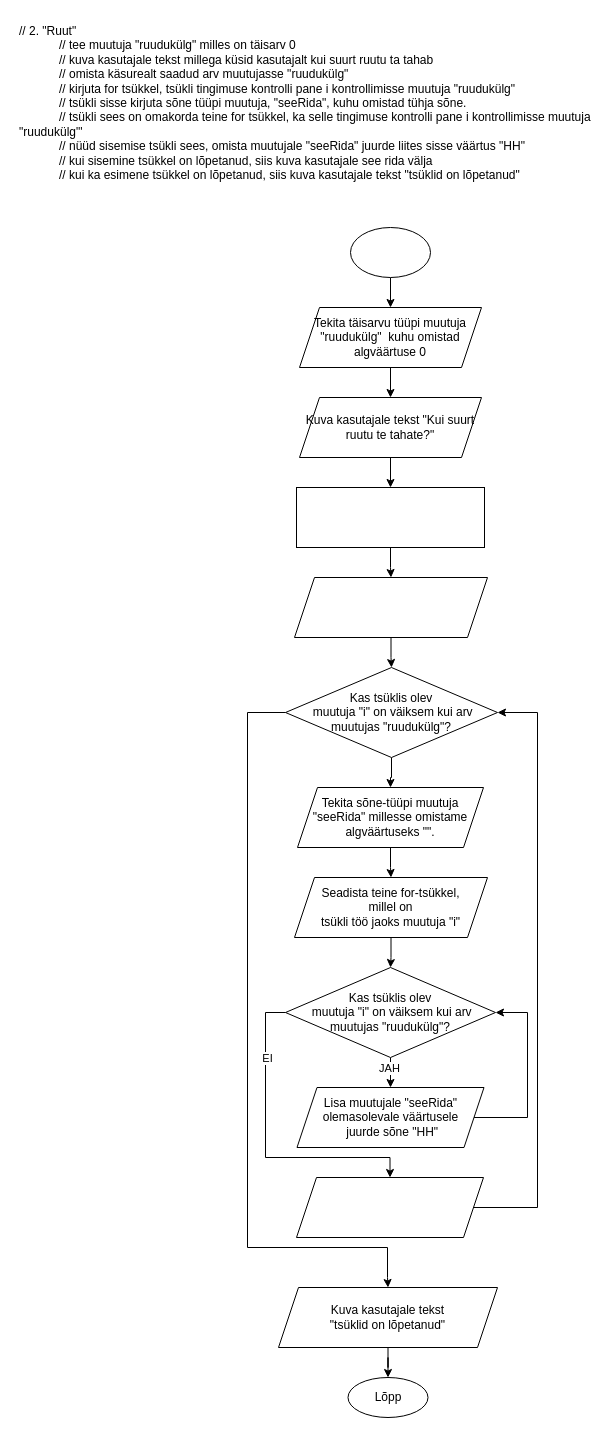
The diagram is 610 pixels wide and 1435 high, and some of its shapes have lost their labels. The shapes that lost their labels are listed below. From the top down, each one's box as (x1, y1, x2, y2) in pixels, then its label:
(350, 226, 430, 278): Algus
(296, 486, 484, 548): Oota kuni kasutaja sisestab käsureal muutujasse "ruudukülg" omistava arvu
(294, 576, 488, 638): Seadista for-tsükkel, millel on tsükli töö jaoks muutuja "i"
(296, 1176, 484, 1238): Kuva kasutajale muutuja "seeRida"
